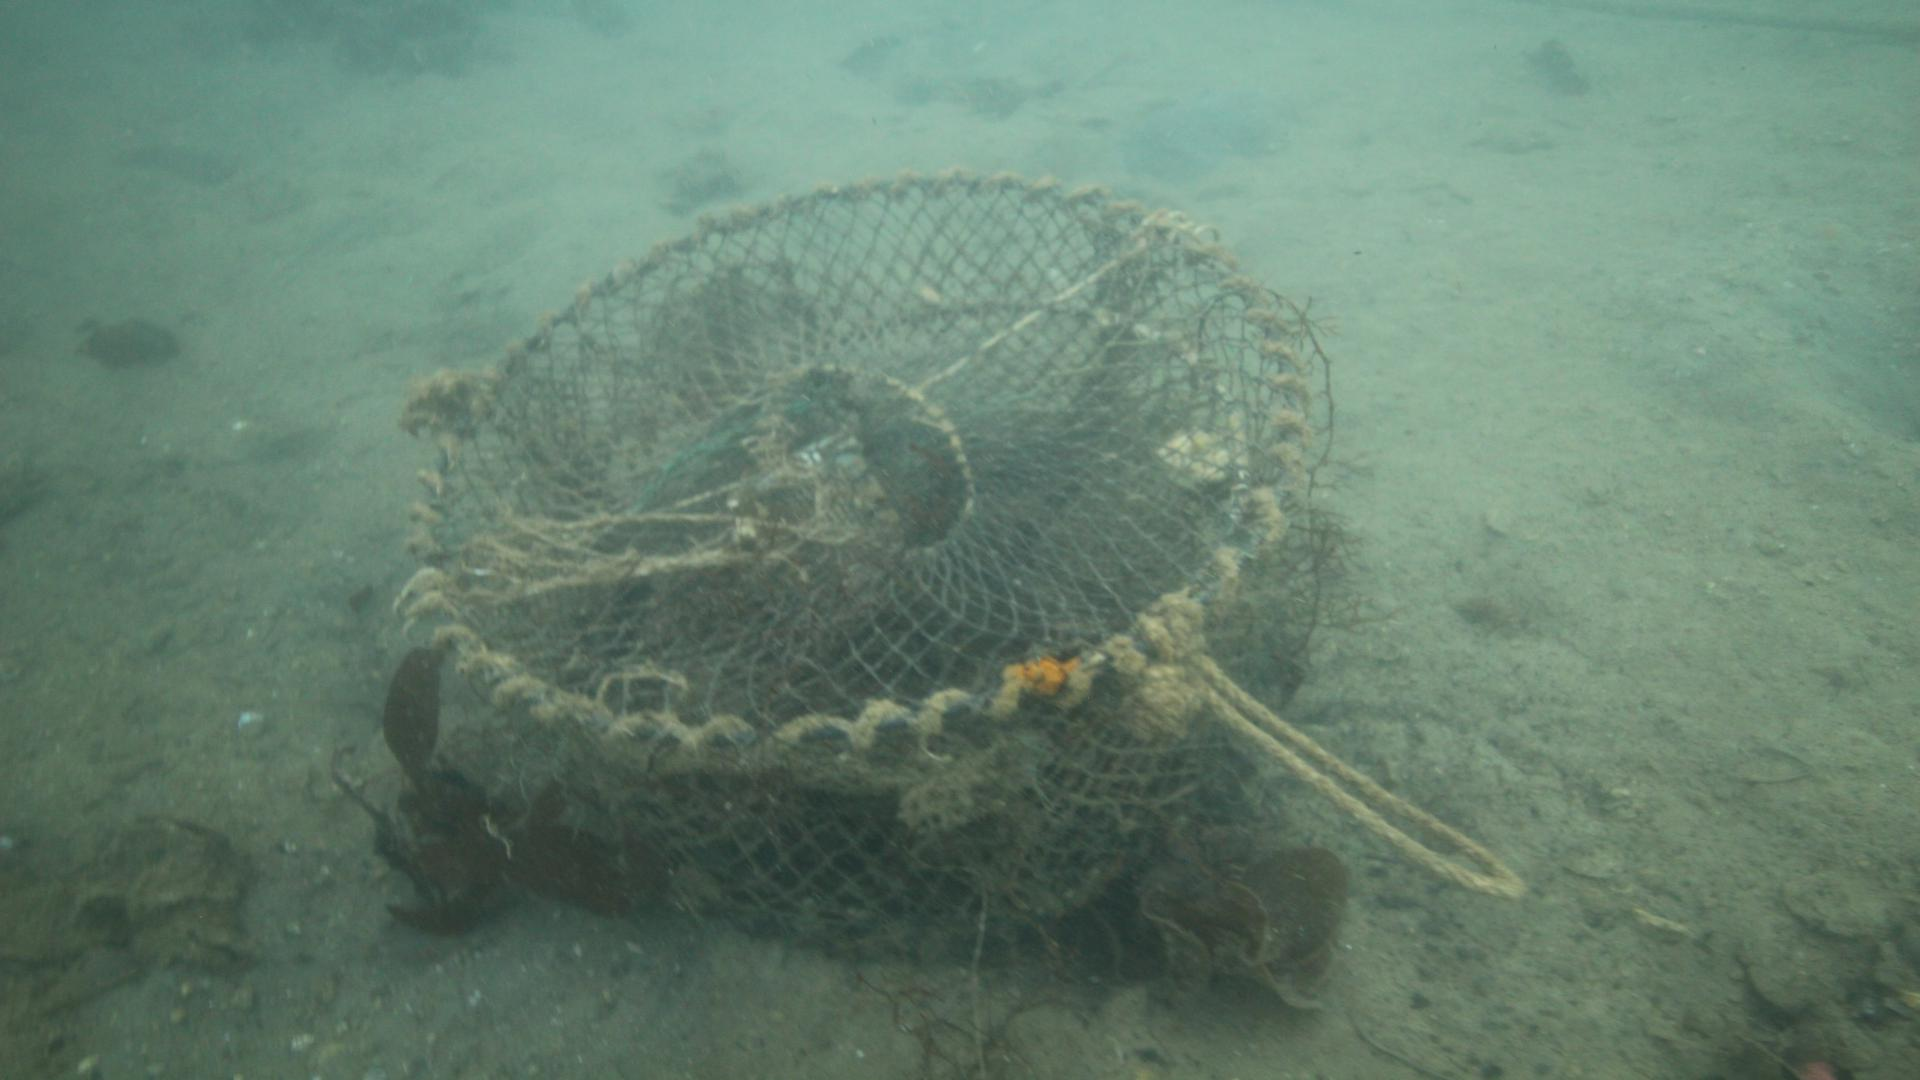bundle of ropes: (1185, 629, 1515, 909)
circular fish trap: (401, 164, 1312, 953)
